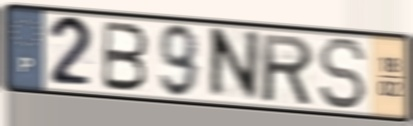2: (43, 14, 99, 91)
9: (157, 22, 202, 101)
B: (99, 19, 151, 94)
N: (205, 26, 262, 104)
R: (259, 32, 316, 108)
S: (316, 36, 369, 112)
